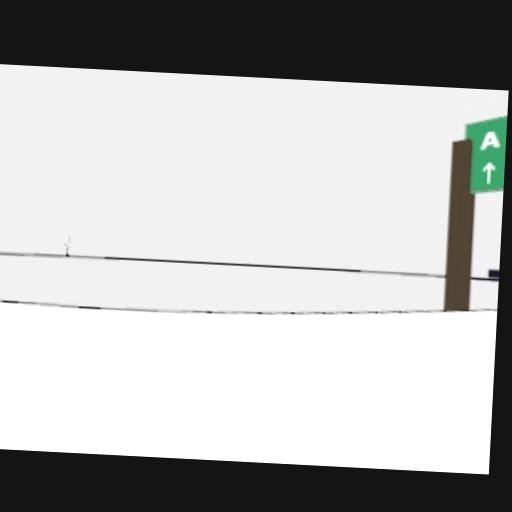A: (480, 130, 500, 150)
Straight: (483, 163, 496, 185)
